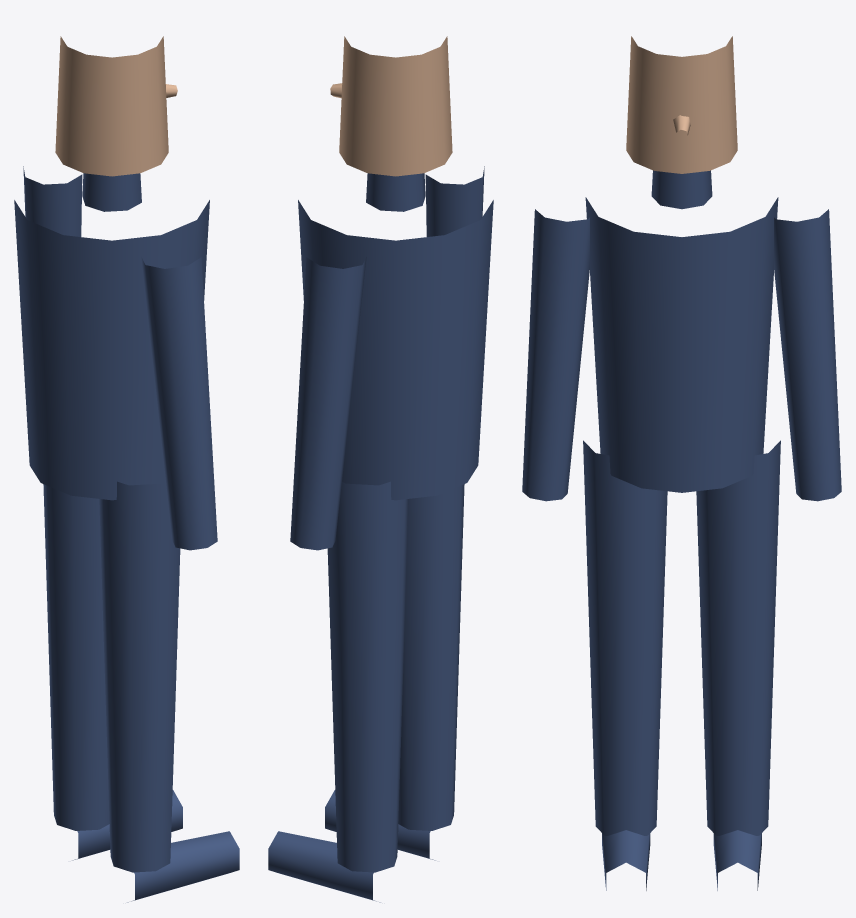
File: player.glb
The picture shows the model from 3 angles, left to right: view 1: azimuth 30°, elevation 25°; view 2: azimuth 150°, elevation 25°; view 3: azimuth 270°, elevation 25°; orthographic projection.
Visible parts, largest first — view 1: Player; view 2: Player; view 3: Player.
Part boxes in pixels (left/top/right/bottom): Player: left=14, top=36, right=239, bottom=902; Player: left=268, top=36, right=493, bottom=902; Player: left=522, top=36, right=841, bottom=890.
Bounding box in the file's own units: 0.39 × 1.8 × 0.6297.
